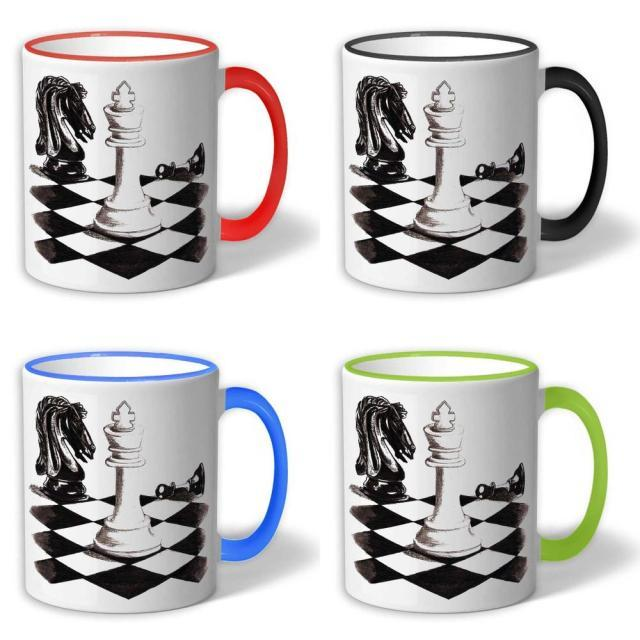Coffee Mug: (17, 29, 290, 296), (337, 29, 609, 295), (338, 350, 609, 614), (19, 352, 288, 614)
